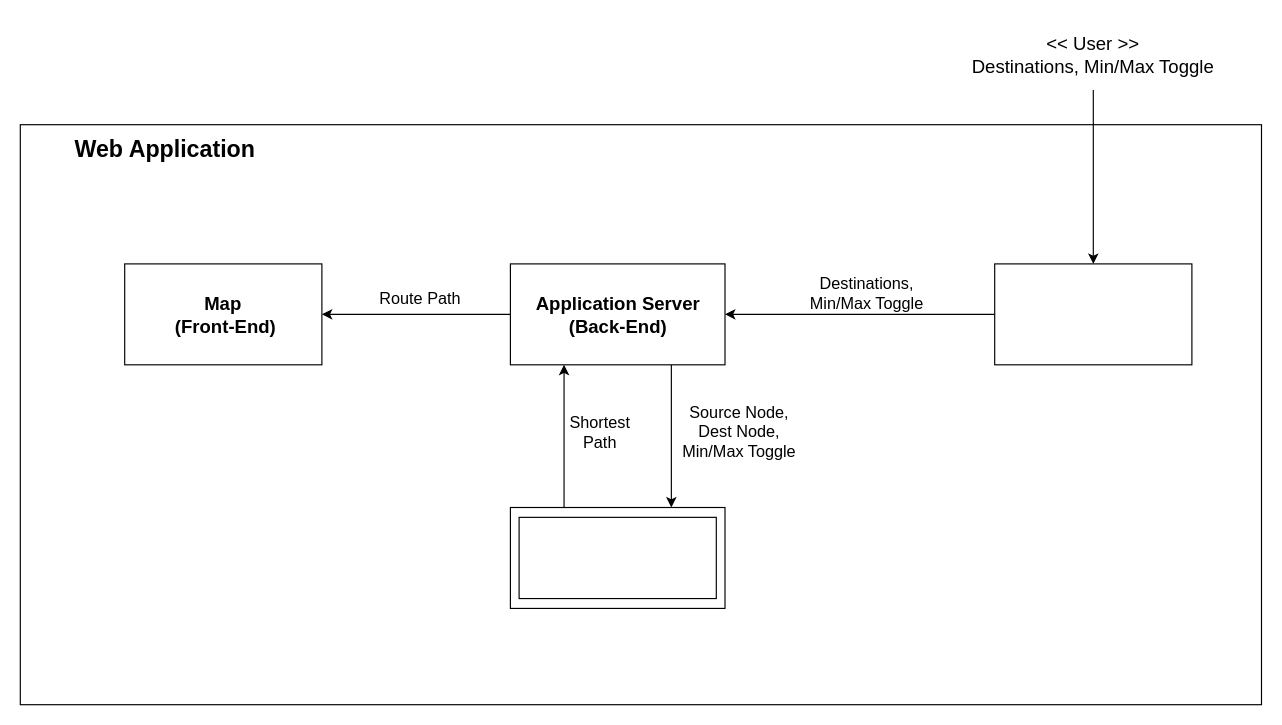
Image size: 1282x725. Some labels were removed from this diagram. The shapes that lost their labels are listed below. From the top down, each one's centre as x and y in pixels, then its label:
point (1093, 314): UI (Front-End)
point (617, 557): Internal Navigation Library
